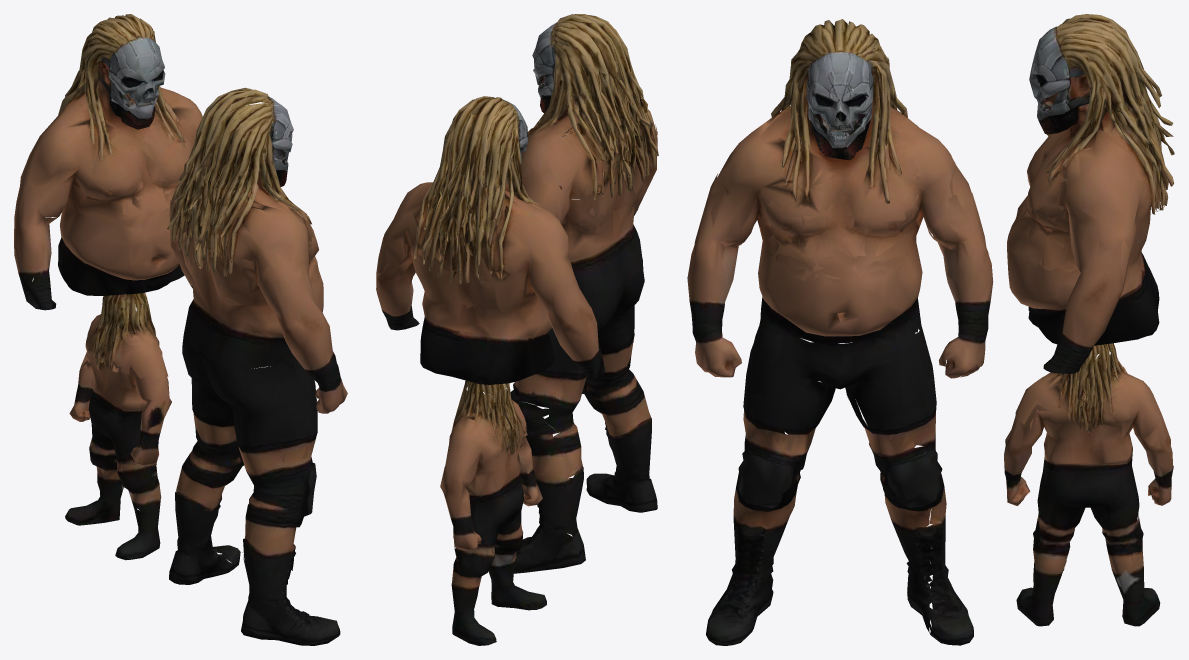
Rendered from BANNON_muscular_rigready.glb.
The picture shows the model from 3 angles, left to right: view 1: azimuth 30°, elevation 25°; view 2: azimuth 150°, elevation 25°; view 3: azimuth 270°, elevation 25°; orthographic projection. The views are drawn at different scales.
Parts seen in each view (by area): view 1: shR, knL, shL, chest, elL, hipR, knR, hipL, elR, ftL, ftR, head (+1 smaller); view 2: shR, knR, chest, hipR, elR, knL, elL, ftR, head, shL, pelvis, ftL (+1 smaller); view 3: shR, elL, knR, elR, chest, shL, knL, hipL, hipR, pelvis, ftR, ftL (+2 smaller).
Part boxes in pixels (box(x1,y1,x2,y2)): shR: box(14, 14, 202, 252); knL: box(169, 393, 317, 604); shL: box(169, 102, 318, 318); chest: box(14, 64, 316, 287); elL: box(171, 222, 340, 386); hipR: box(18, 205, 168, 383); knR: box(73, 311, 240, 571); hipL: box(188, 346, 347, 465); elR: box(103, 177, 193, 312); ftL: box(241, 552, 340, 645); ftR: box(65, 402, 161, 560); head: box(194, 87, 279, 152); shR: box(378, 96, 592, 345); knR: box(445, 399, 580, 586); chest: box(520, 50, 658, 357); hipR: box(440, 296, 605, 517); elR: box(376, 210, 561, 395); knL: box(510, 311, 651, 563); elL: box(561, 124, 658, 296); ftR: box(451, 519, 546, 645); head: box(532, 14, 618, 102); shL: box(528, 15, 657, 231); pelvis: box(510, 217, 624, 408); ftL: box(586, 428, 657, 512); shR: box(945, 14, 1174, 289); elL: box(687, 173, 934, 346); knR: box(926, 366, 1173, 645); elR: box(943, 178, 1168, 378); chest: box(799, 57, 1069, 259); shL: box(709, 24, 921, 279); knL: box(733, 382, 934, 633); hipL: box(692, 325, 903, 442); hipR: box(1015, 252, 1172, 467); pelvis: box(841, 221, 977, 459); ftR: box(1016, 471, 1171, 626); ftL: box(706, 519, 784, 645).
Bounding box in the file's own units: 0.4332 × 1 × 0.7332.
Materials: 1 (1 with a texture image).
